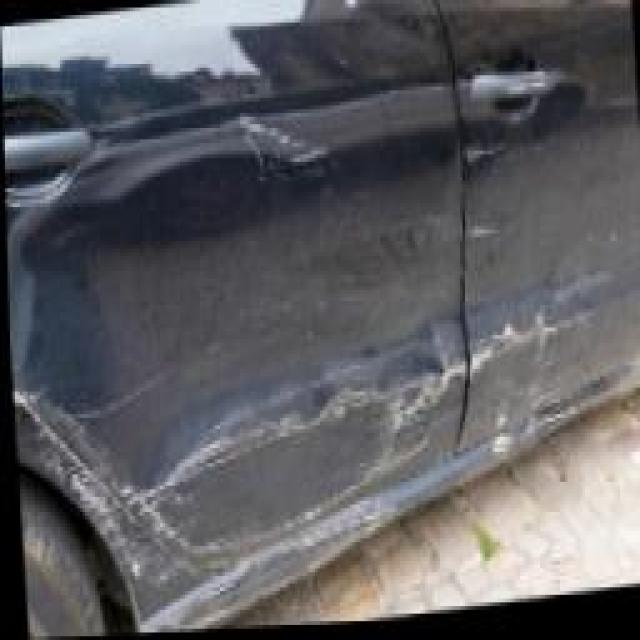Door: (8, 60, 461, 569), (460, 271, 606, 439)
